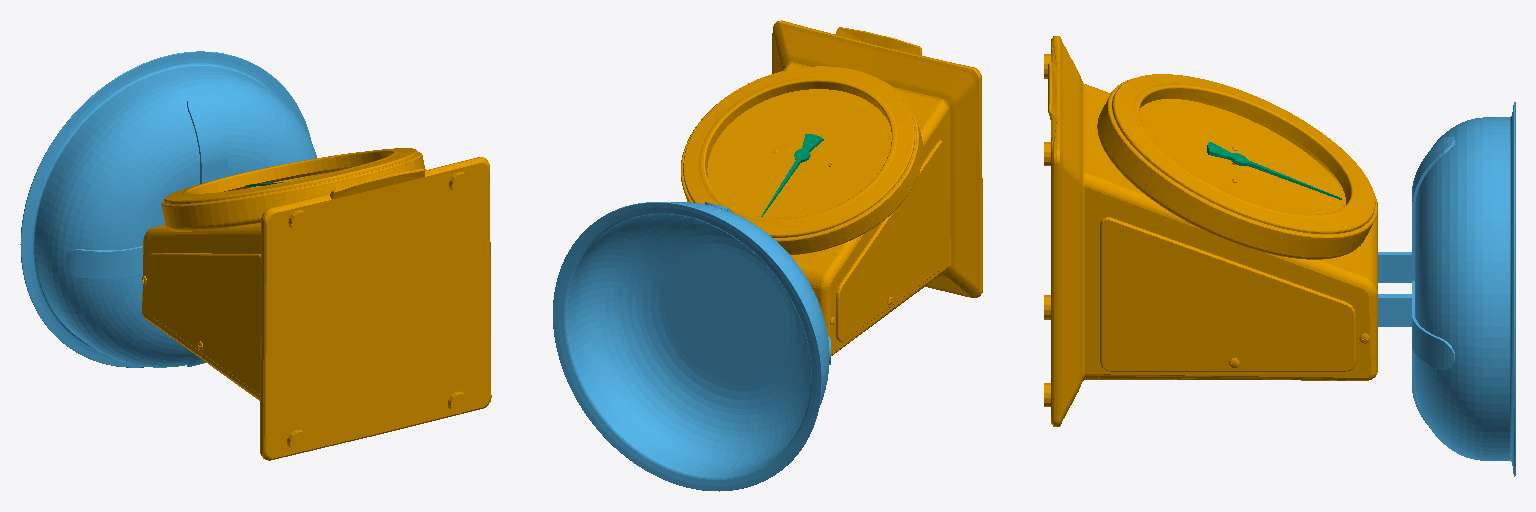
robot.urdf — scales:
<?xml version="0.0" ?>
<robot name="scales">
  <link name="base">
  
    <collision>
      <origin rpy="0 0 0" xyz="0 0.12 0"/>
      <geometry>
        <box size="0.15 0.20 0.15"/>
      </geometry>
    </collision>
  
    <visual>
      <origin rpy="0 0 0" xyz="0 0 0"/>
      <geometry>
        <mesh filename="base.obj"/>
      </geometry>
    </visual>
  </link>

  <link name="bowl">
    <inertial>
      <origin rpy="0 0 0" xyz="0 0 0"/>
      <mass value=".1"/>
      <inertia ixx="1" ixy="0" ixz="0" iyy="1" iyz="0" izz="1"/>
    </inertial>
    <collision>
      <origin rpy="0 0 0" xyz="0 0.0 0.0"/>
      <geometry>
        <!--<box size="0.25 0.05 0.25"/>-->
        <mesh filename="bowl_low.obj" scale="1 1 1"/>
      </geometry>
    </collision>
    <visual>
      <origin rpy="0 0 0" xyz="0 0 0"/>
      <geometry>
        <mesh filename="bowl.obj"/>
      </geometry>
    </visual>
  </link>

    <link name="needle">
    <collision>
      <origin rpy="0 0 0" xyz="0 0.0 0.0"/>
      <geometry>
        <box size="0.01 0.05 0.01"/>
      </geometry>
    </collision>
    <visual>
      <origin rpy="0 0 0" xyz="0 0.0 0.0"/>
      <geometry>
        <mesh filename="needle.obj"/>
      </geometry>
    </visual>
  </link>


  <joint name="bowl_joint" type="prismatic">
    <origin rpy="0 0 0" xyz="0.0 0.0 0.0"/>
    <parent link="base"/>
    <child link="bowl"/>    
    <axis xyz="0 1 0"/>
  </joint>

  <joint name="needle_joint" type="revolute">
    <origin rpy="-0.4 0 0" xyz="0.0012 0.1335 0.055"/>
    <parent link="base"/>
    <child link="needle"/>    
    <axis xyz="0 0 1"/>
  </joint>

</robot>

--- Facts derived from the render (not from the file) ---
3 views of the same robot in one strip: view 1: azimuth 30°, elevation 25°; view 2: azimuth 150°, elevation 25°; view 3: azimuth 270°, elevation 25° (orthographic).
Model scales with 3 links and 2 joints (1 revolute, 1 prismatic), rooted at base, posed every joint at zero.
Links seen in each view (by area): view 1: base, bowl; view 2: base, bowl, needle; view 3: base, bowl, needle.
Link boxes in pixels (bbox=[...]): base: bbox=[142, 148, 491, 460]; bowl: bbox=[20, 51, 316, 367]; base: bbox=[681, 20, 982, 355]; bowl: bbox=[553, 202, 830, 491]; needle: bbox=[761, 134, 823, 216]; base: bbox=[1044, 36, 1377, 426]; bowl: bbox=[1378, 102, 1515, 476]; needle: bbox=[1207, 142, 1341, 199].
Size in the robot's own frame: 0.2544 by 0.3198 by 0.2812 metres.
3 mesh visuals loaded from 3 distinct referenced files (3 OBJ).